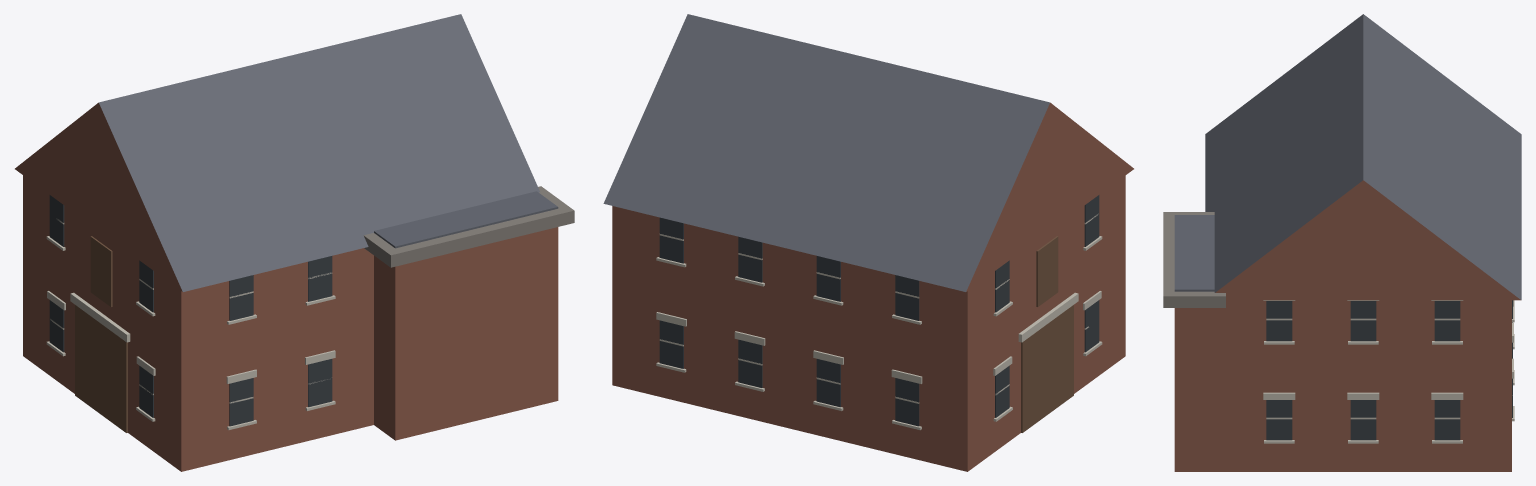
File: house_2123_prairie_coach_house__draft_1904.glb
3 renders of one model, left to right at view 1: azimuth 30°, elevation 25°; view 2: azimuth 150°, elevation 25°; view 3: azimuth 270°, elevation 25°, orthographic. The views are drawn at different scales.
Visible parts, largest first — view 1: house_2123_prairie_coach_house__draft_1904; view 2: house_2123_prairie_coach_house__draft_1904; view 3: house_2123_prairie_coach_house__draft_1904.
Part boxes in pixels (x1=…): house_2123_prairie_coach_house__draft_1904: x1=15, y1=14, x2=574, y2=471; house_2123_prairie_coach_house__draft_1904: x1=603, y1=14, x2=1133, y2=471; house_2123_prairie_coach_house__draft_1904: x1=1163, y1=14, x2=1521, y2=471.
Size of the model in its own units: 12.47 by 10.08 by 11.15.
